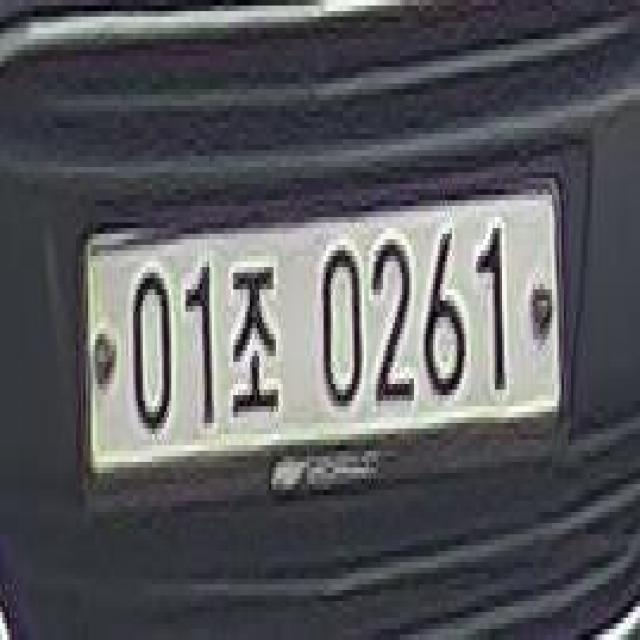illegal_plate: (84, 169, 569, 512)
